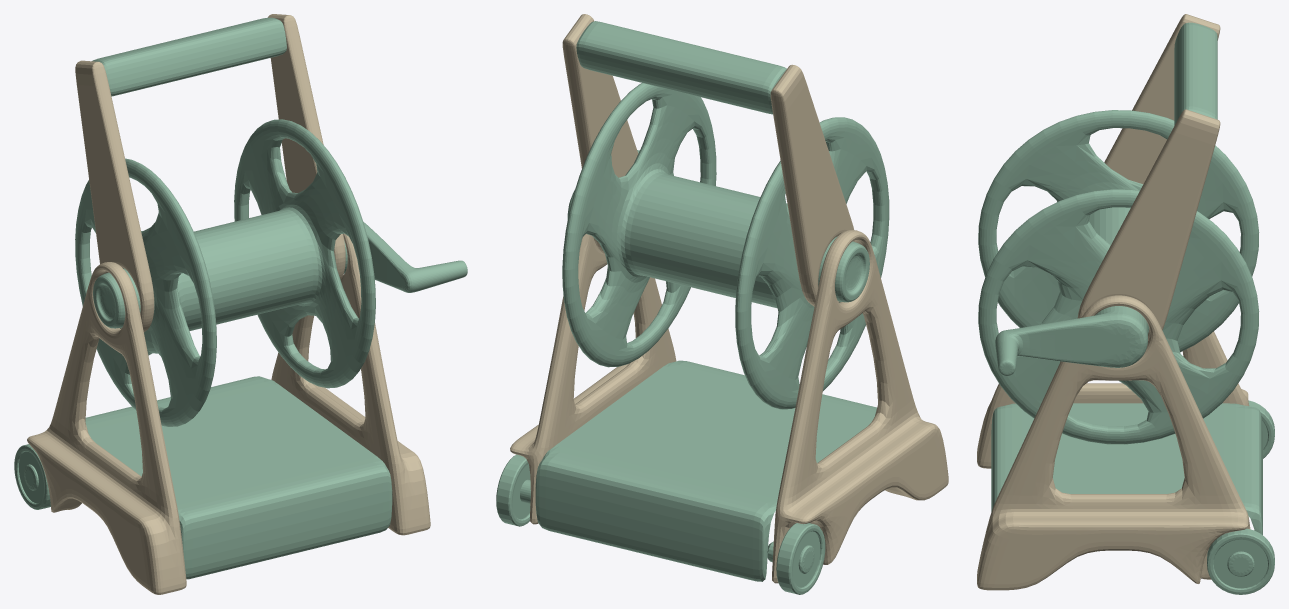
The model's file is sweethome3d-katorlegaz-hose-reel.glb.
3 views of the same model, side by side, from view 1: azimuth 30°, elevation 25°; view 2: azimuth 150°, elevation 25°; view 3: azimuth 270°, elevation 25° (orthographic). The views are drawn at different scales.
Visible parts, largest first — view 1: Hose_reel_base, Hose_reel_spindle, Hose_reel_handle, Hose_reel_wheels; view 2: Hose_reel_base, Hose_reel_spindle, Hose_reel_handle, Hose_reel_wheels; view 3: Hose_reel_spindle, Hose_reel_base, Hose_reel_handle, Hose_reel_wheels.
Boxes of the visible parts, x1,y1,x2,y2 form: Hose_reel_base: [27, 233, 430, 594]; Hose_reel_spindle: [75, 119, 467, 426]; Hose_reel_handle: [75, 14, 345, 332]; Hose_reel_wheels: [14, 444, 50, 509]; Hose_reel_base: [510, 230, 948, 583]; Hose_reel_spindle: [562, 83, 889, 409]; Hose_reel_handle: [562, 14, 855, 306]; Hose_reel_wheels: [496, 454, 825, 594]; Hose_reel_spindle: [978, 110, 1259, 444]; Hose_reel_base: [977, 295, 1262, 590]; Hose_reel_handle: [1077, 14, 1220, 340]; Hose_reel_wheels: [1207, 400, 1274, 594].
Size of the model in its own units: 34.22 by 46.1 by 26.73.
